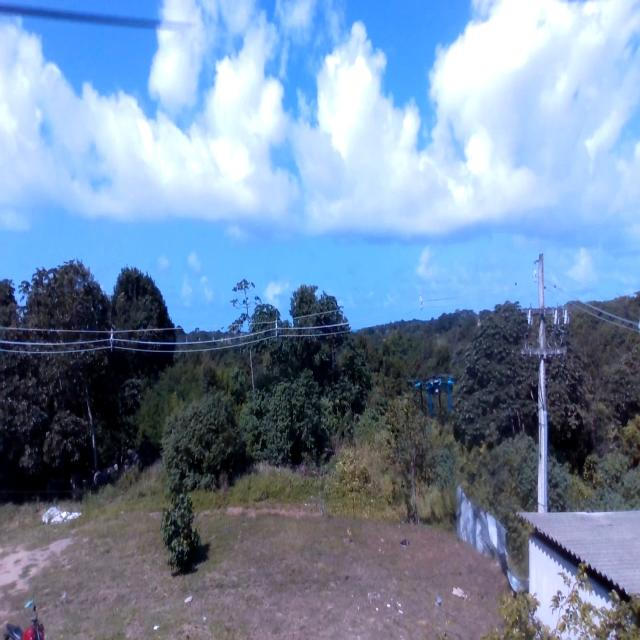-uav-: (405, 364, 462, 417)
